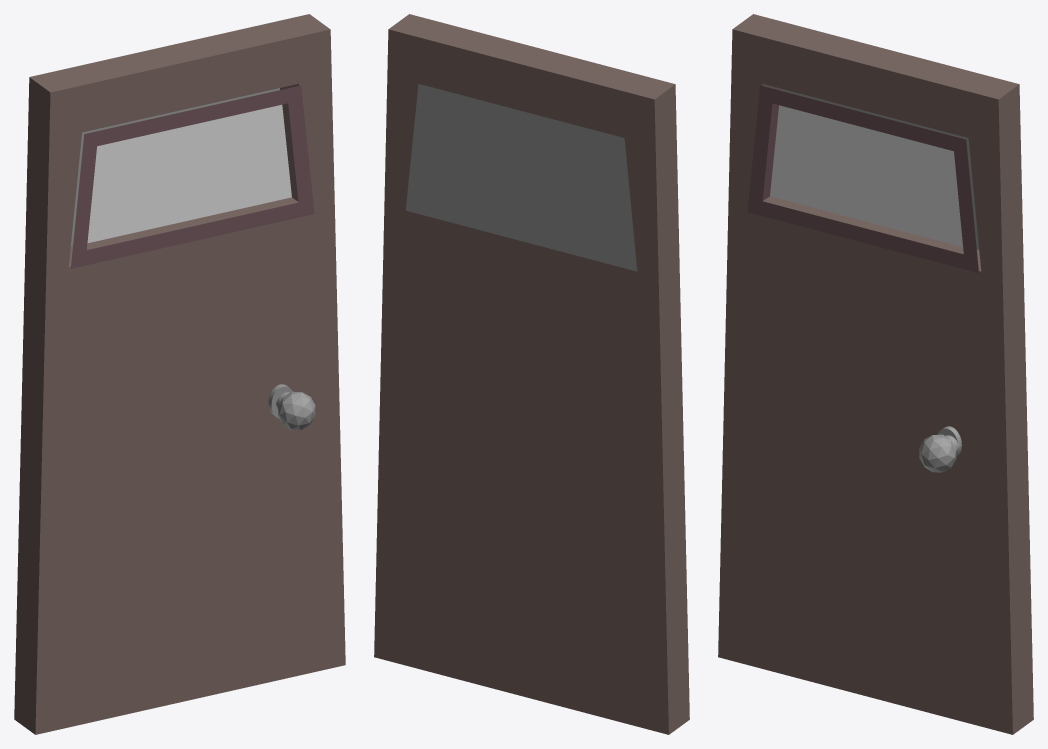
The model's file is suburbanDoor.fbx.
The picture shows the model from 3 angles, left to right: view 1: azimuth 30°, elevation 25°; view 2: azimuth 150°, elevation 25°; view 3: azimuth 330°, elevation 25°; orthographic projection.
Visible parts, largest first — view 1: DoorPerma; view 2: DoorPerma; view 3: DoorPerma.
Boxes of the visible parts, bbox=[...] form: DoorPerma: bbox=[14, 14, 345, 734]; DoorPerma: bbox=[374, 14, 689, 734]; DoorPerma: bbox=[718, 14, 1033, 734].
Bounding box in the file's own units: 83.71 × 168 × 23.74.
